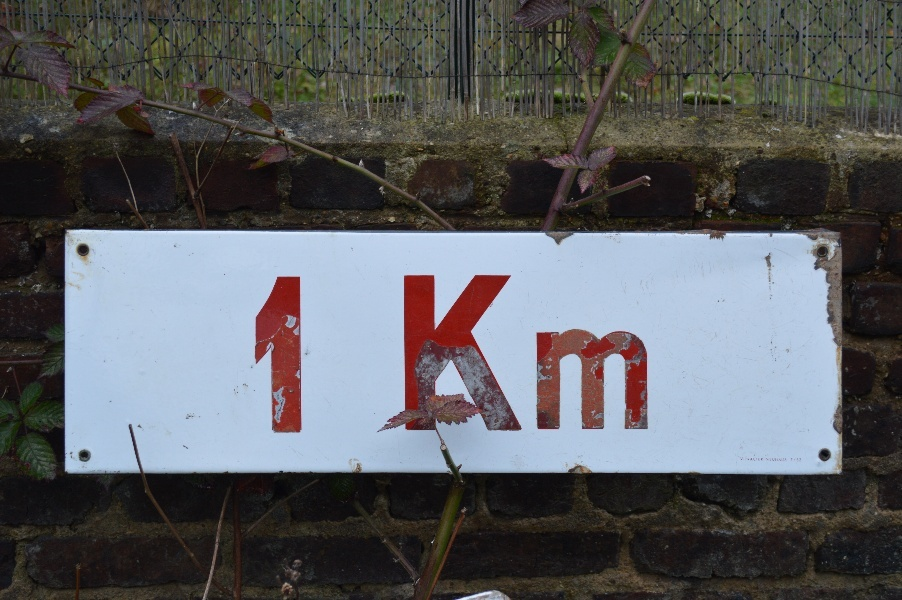text: (289, 275, 305, 435), (257, 275, 272, 435), (273, 275, 288, 435), (401, 276, 416, 432), (417, 276, 432, 432), (433, 276, 448, 432), (449, 276, 464, 432), (465, 276, 480, 432), (481, 276, 496, 432), (497, 276, 512, 432), (513, 276, 528, 432), (529, 276, 544, 432), (545, 276, 560, 432), (561, 276, 576, 432), (577, 276, 592, 432), (593, 276, 608, 432), (609, 276, 624, 432), (625, 276, 640, 432), (641, 276, 649, 432), (254, 275, 256, 435)
